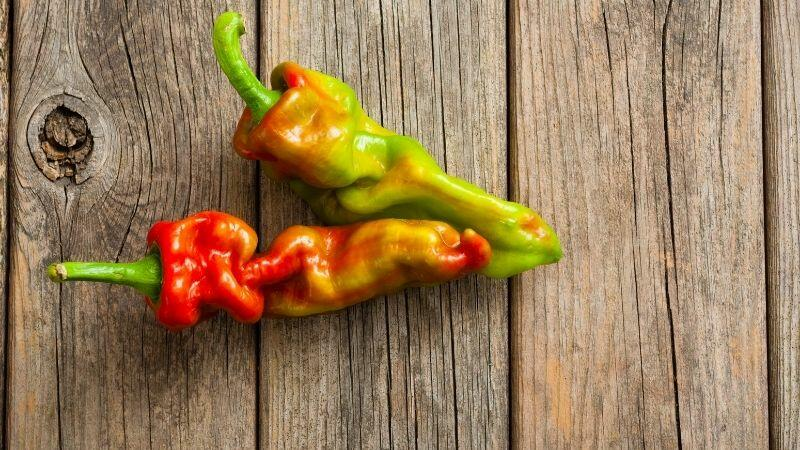peppers: (48, 6, 621, 341)
